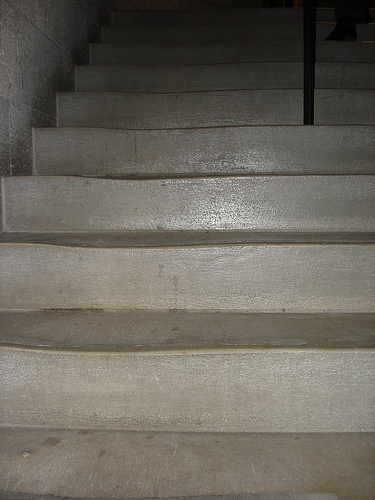stairs_up: (1, 52, 375, 419)
